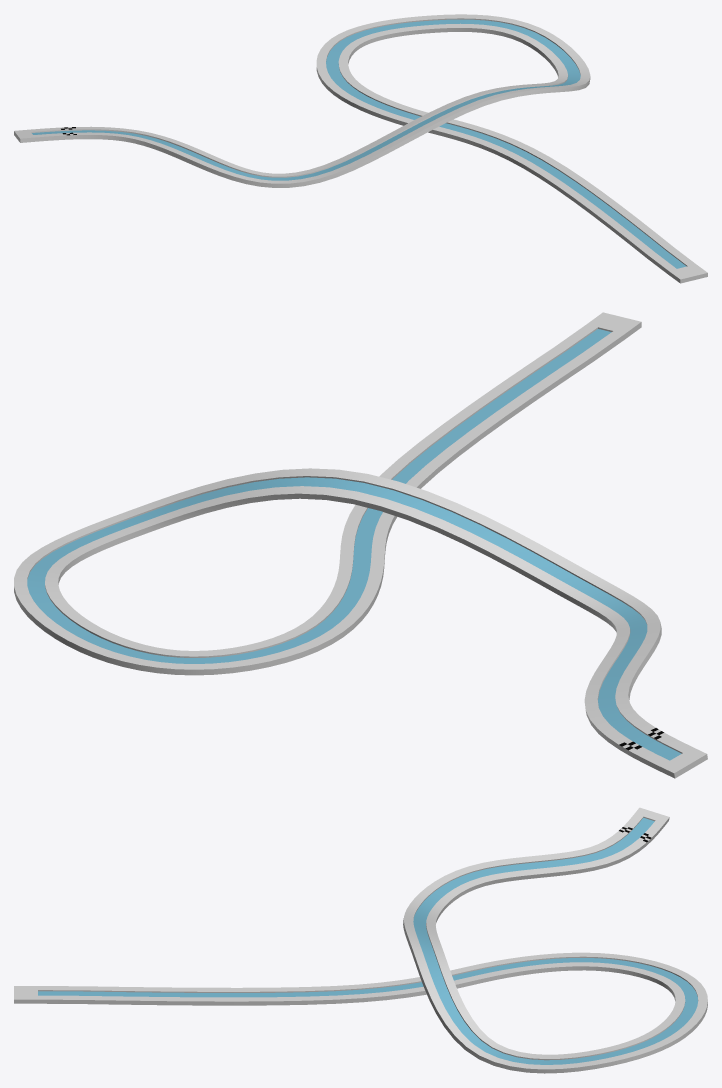
The picture shows the model from 3 angles, top to bottom: view 1: azimuth 30°, elevation 25°; view 2: azimuth 150°, elevation 25°; view 3: azimuth 270°, elevation 25°; orthographic projection. The views are drawn at different scales.
Parts seen in each view (by area): view 1: pCube1; view 2: pCube1; view 3: pCube1.
Part boxes in pixels (x1,y1,x2,y2): pCube1: (14,14,707,283); pCube1: (14,312,707,778); pCube1: (14,807,707,1073).
Size of the model in its own units: 49.19 by 4.1 by 56.49.
